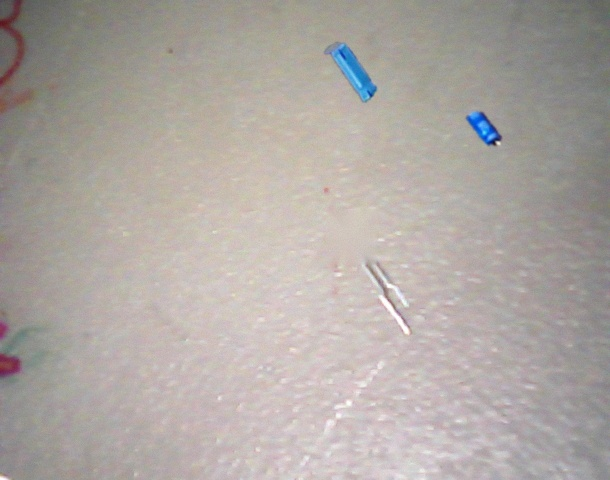capacitor: (325, 43, 378, 102), (465, 111, 502, 146)
